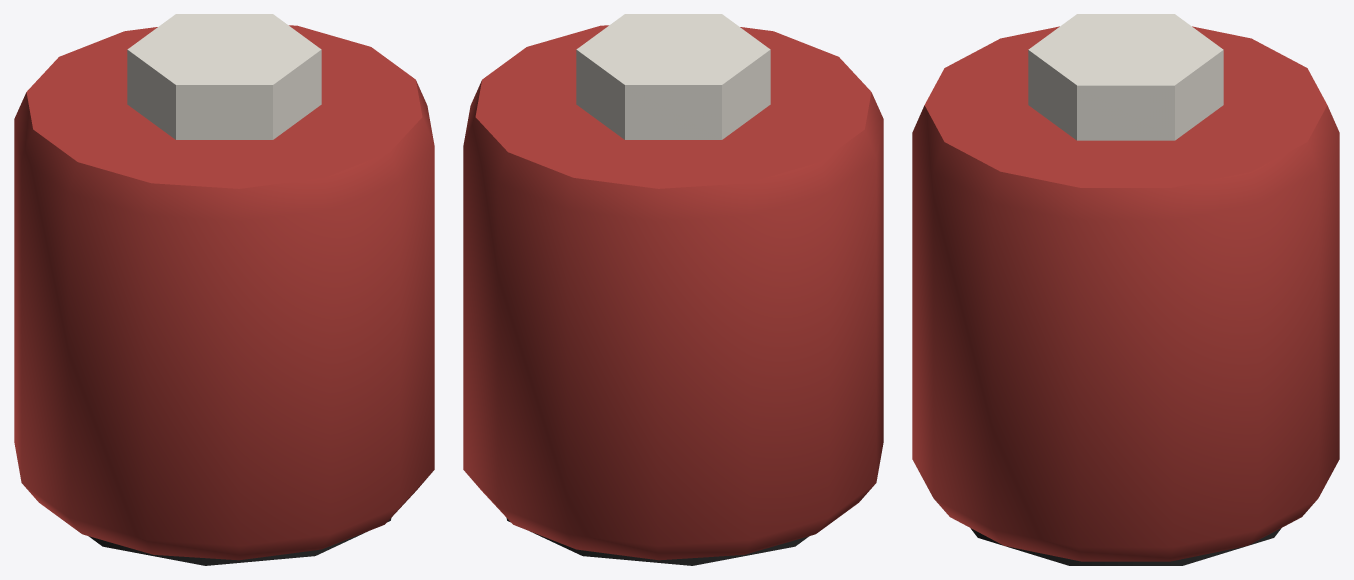
The model's file is oil_lod1.glb.
The picture shows the model from 3 angles, left to right: view 1: azimuth 30°, elevation 25°; view 2: azimuth 150°, elevation 25°; view 3: azimuth 270°, elevation 25°; orthographic projection.
Visible parts, largest first — view 1: oil_lod1; view 2: oil_lod1; view 3: oil_lod1.
Boxes of the visible parts, box(x1,y1,x2,y2) form: oil_lod1: box(14, 14, 434, 565); oil_lod1: box(463, 14, 883, 565); oil_lod1: box(912, 14, 1339, 565).
Size of the model in its own units: 0.0682 by 0.08 by 0.07.
